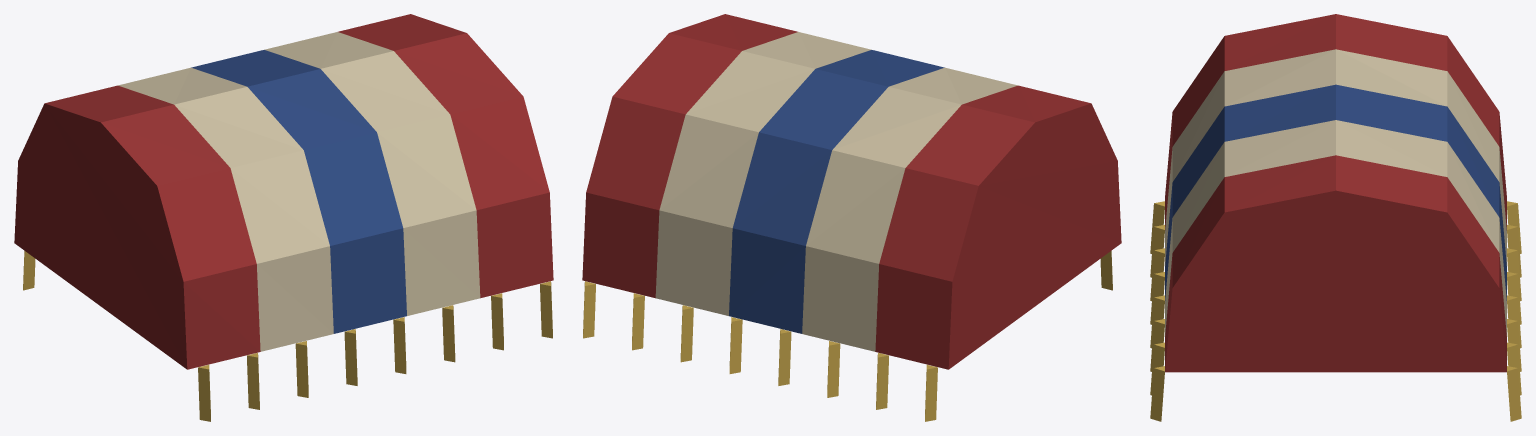
The model's file is gd_donkey_rug.glb.
3 views of the same model, side by side, from view 1: azimuth 30°, elevation 25°; view 2: azimuth 150°, elevation 25°; view 3: azimuth 270°, elevation 25° (orthographic).
Visible parts, largest first — view 1: base; view 2: base; view 3: base.
Part boxes in pixels (x1,y1,x2,y2): base: [14, 14, 553, 421]; base: [582, 14, 1121, 421]; base: [1150, 14, 1521, 421].
Bounding box in the file's own units: 0.225 × 0.1381 × 0.2.
